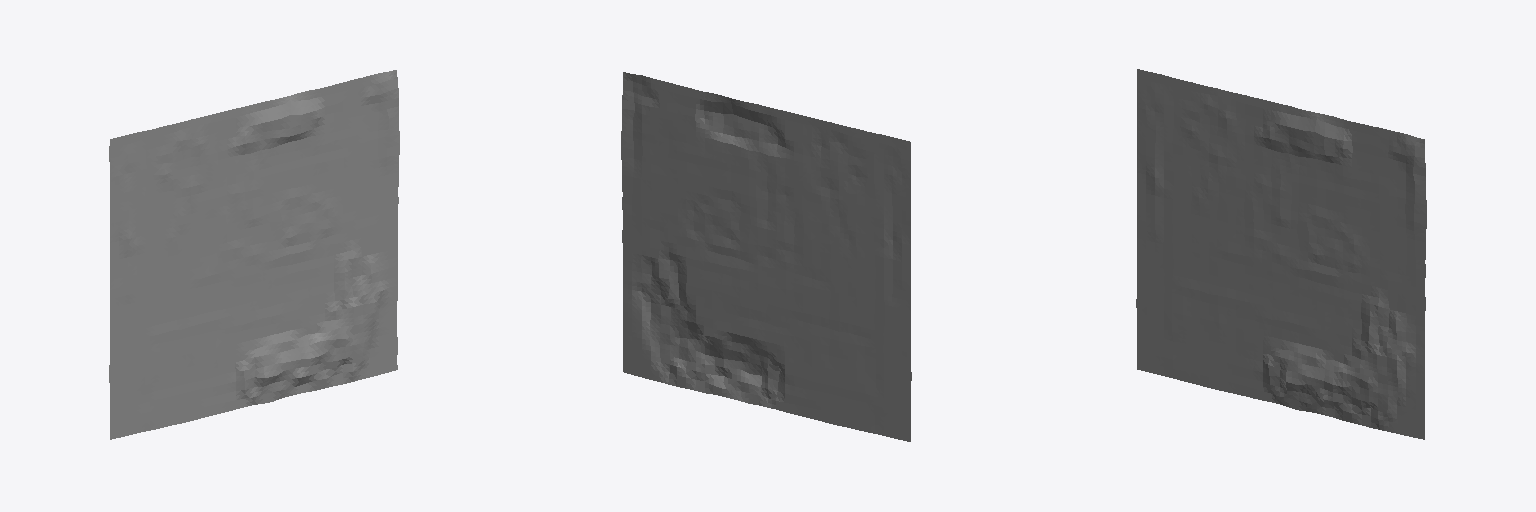
The model's file is plain.obj.
The picture shows the model from 3 angles: view 1: azimuth 30°, elevation 25°; view 2: azimuth 150°, elevation 25°; view 3: azimuth 330°, elevation 25°; orthographic projection.
Parts seen in each view (by area): view 1: Plane_Plane.003; view 2: Plane_Plane.003; view 3: Plane_Plane.003.
Part boxes in pixels (x1,y1,x2,y2): Plane_Plane.003: (109, 70, 399, 439); Plane_Plane.003: (621, 72, 911, 441); Plane_Plane.003: (1136, 69, 1426, 439).
Bounding box in the file's own units: 44.1 × 43.86 × 0.8665.